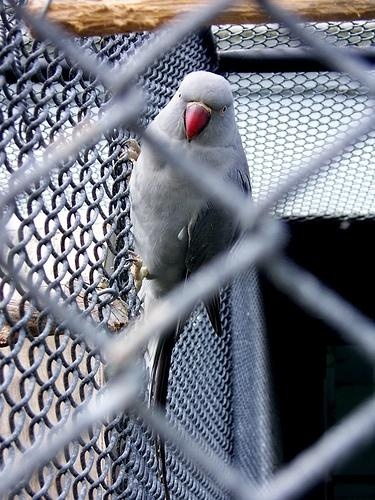bird: (124, 71, 253, 500)
